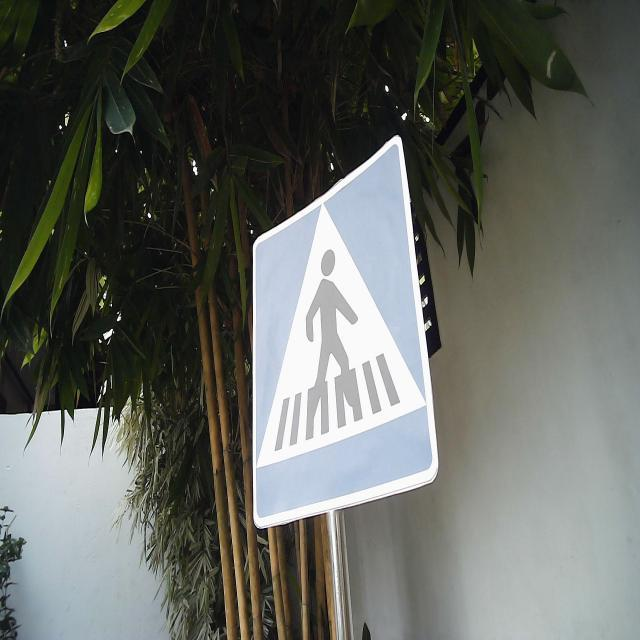crosswalk_sign: (250, 131, 442, 534)
